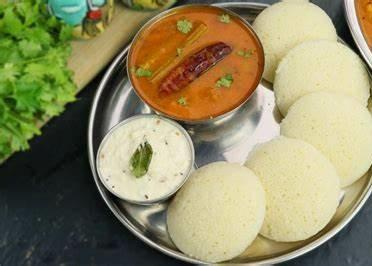CoconutChutney: (97, 117, 192, 201)
Idli: (241, 137, 338, 242), (167, 161, 265, 264), (280, 91, 372, 188), (273, 41, 368, 121), (250, 0, 338, 84)
